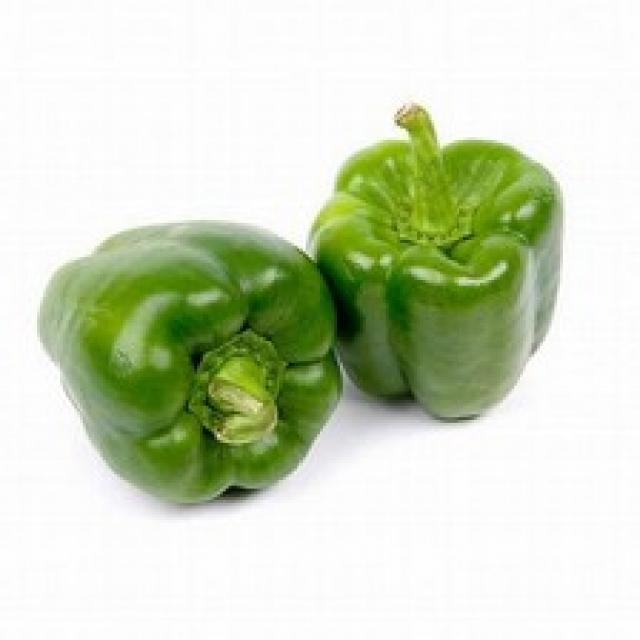Pepper: (37, 221, 343, 508), (308, 107, 563, 423)
